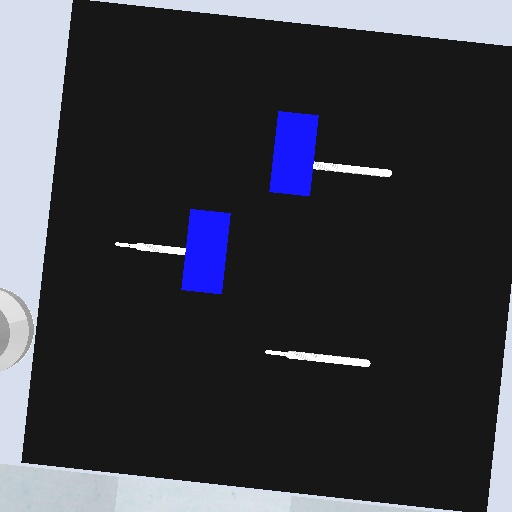bisturi: (262, 343, 373, 371), (311, 158, 394, 181), (112, 238, 188, 258)
